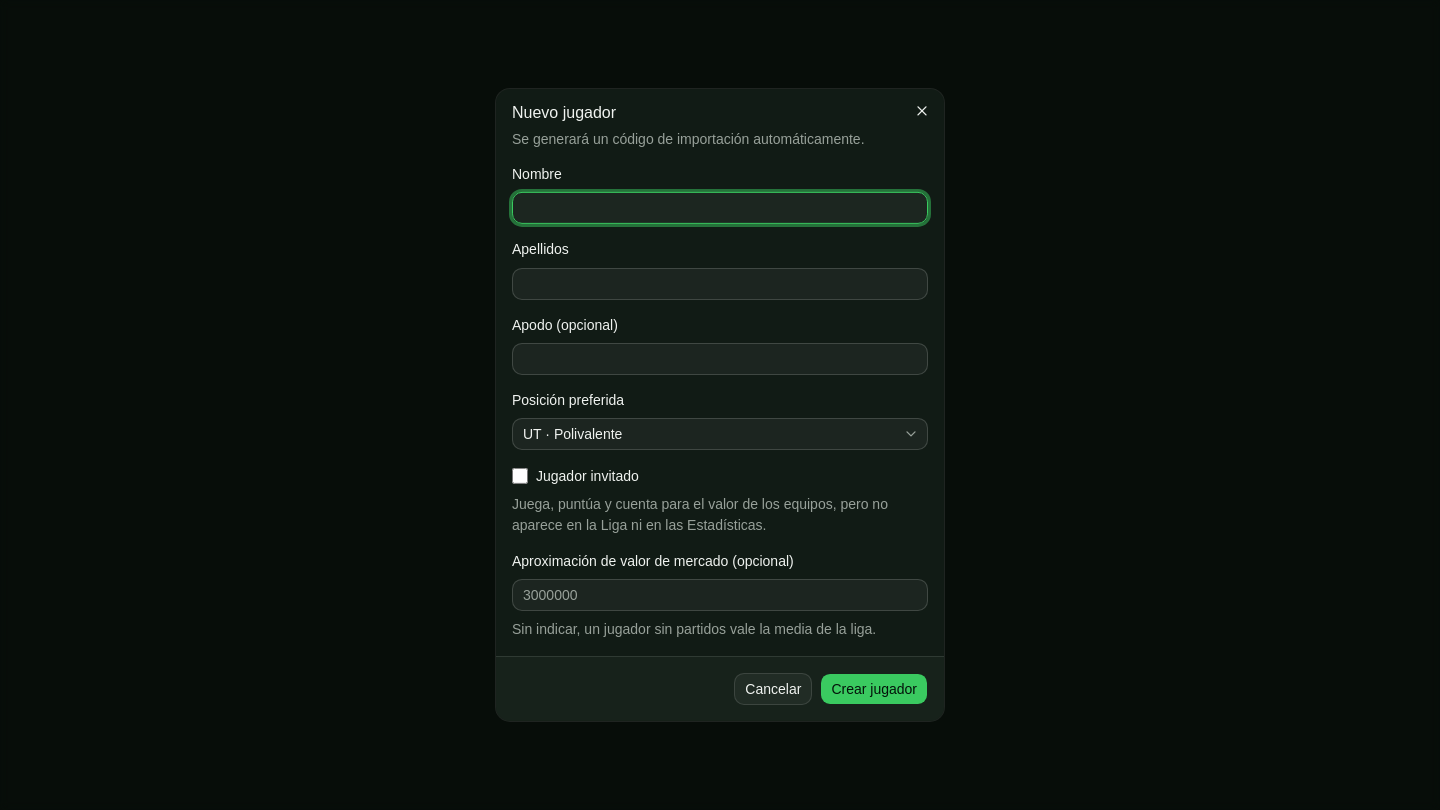
Test: PlayerFormDialog › the administrator-only fields › refuses a negative estimate
This screenshot has width=1440, height=810.
Type "Deuda" into the field labelled "Nombre" at (720, 208), box [512,192,928,224]
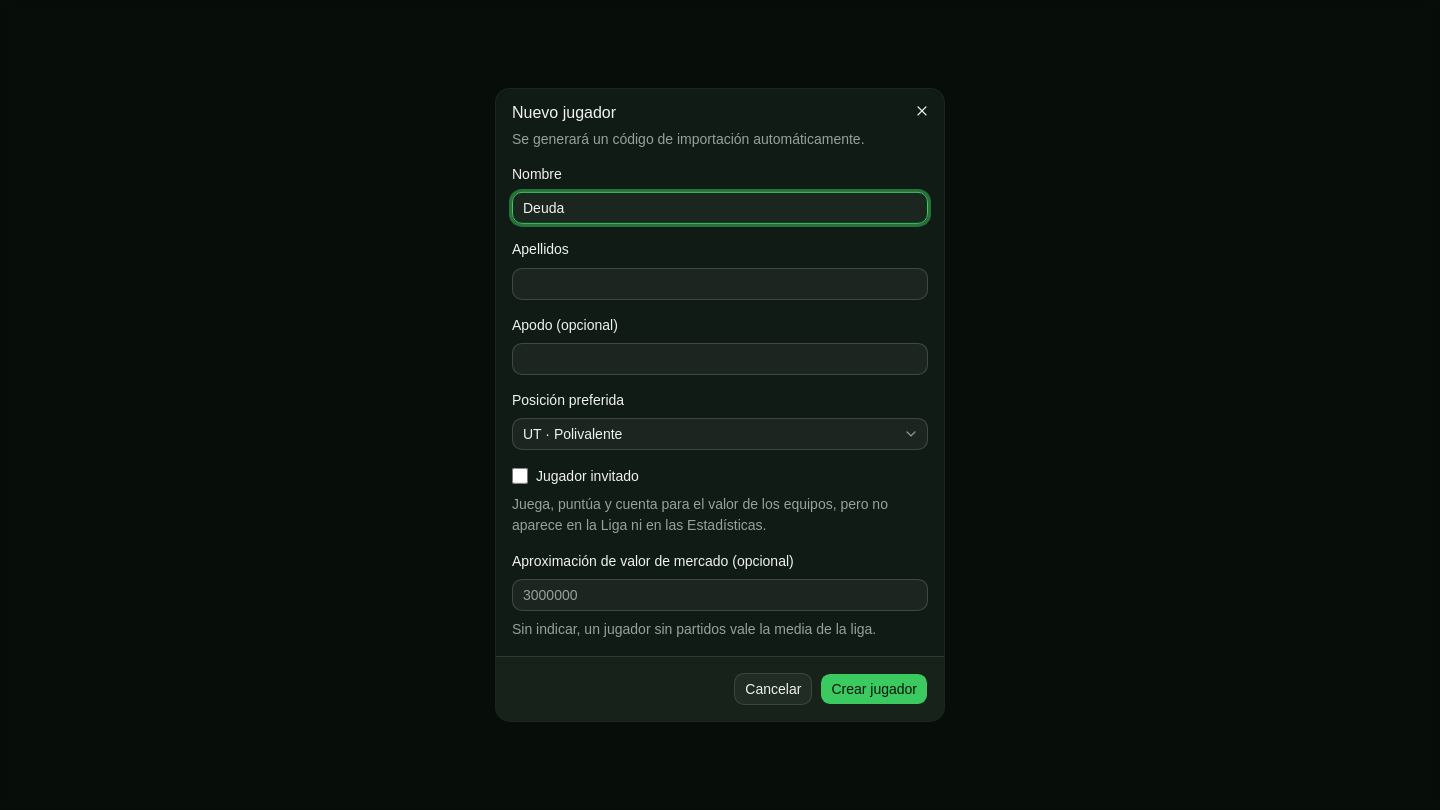
Type "Viviente" into the field labelled "Apellidos" at (720, 283), box [512,267,928,299]
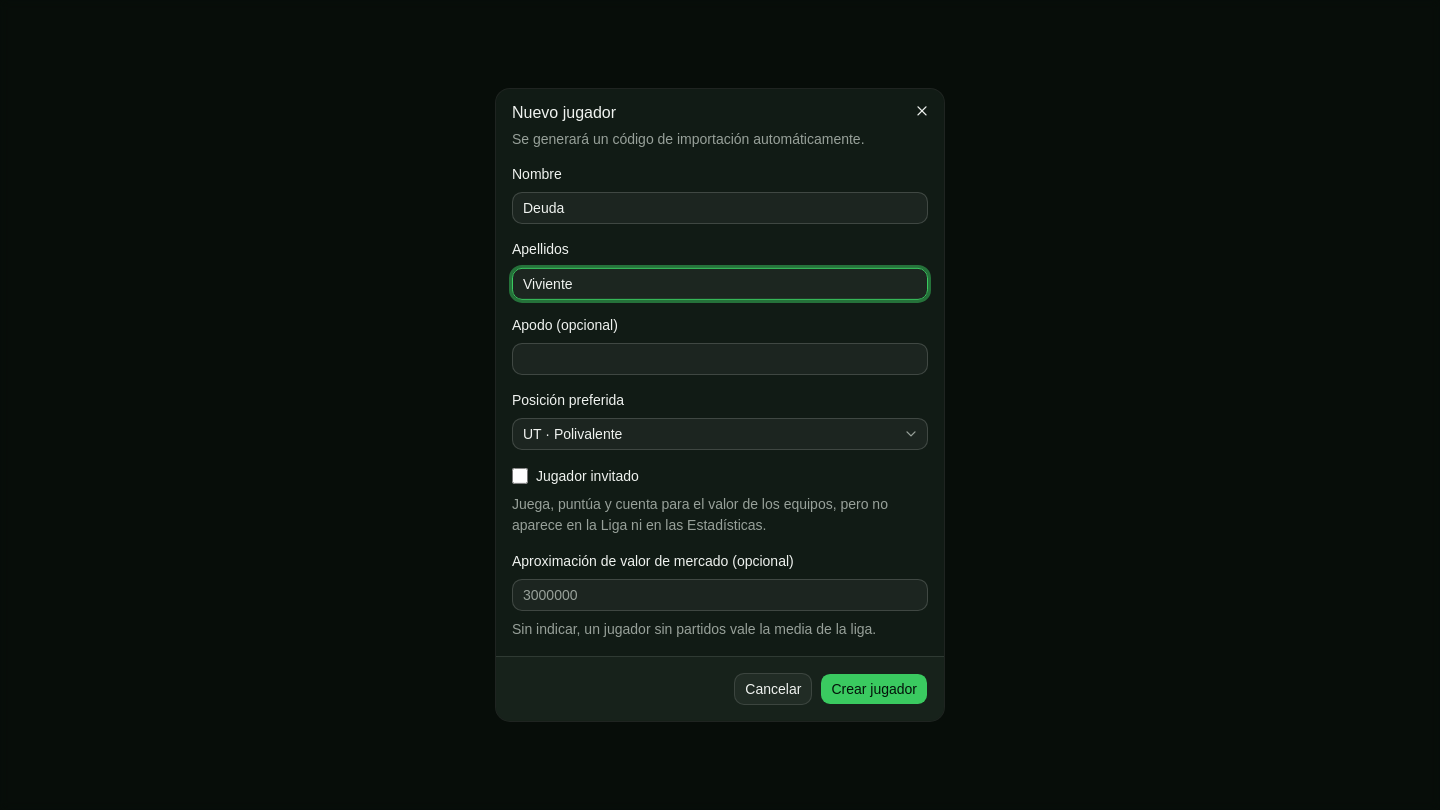
Type "-100" into the field labelled "Aproximación de valor de mercado (opcional)" at (720, 595), box [512,579,928,611]
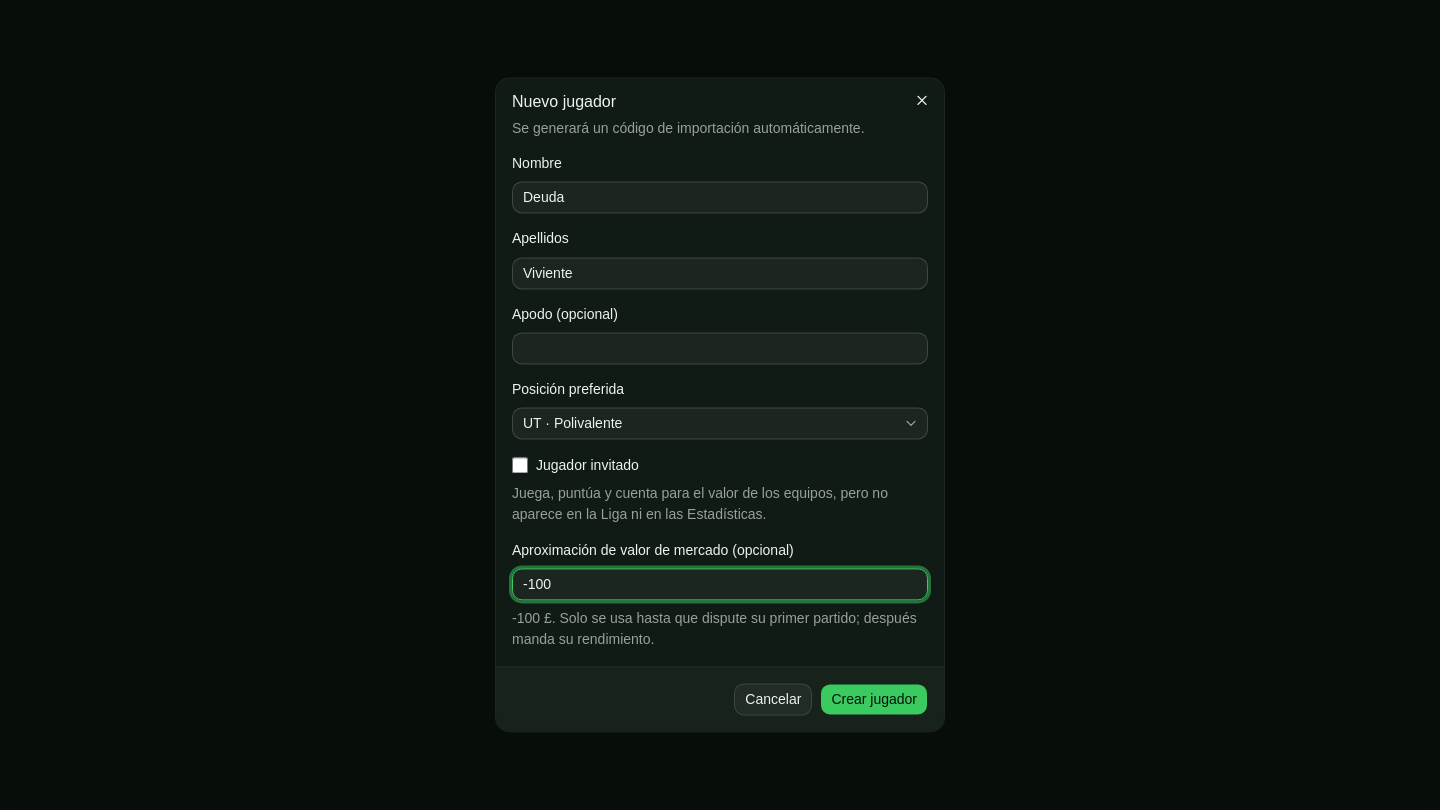
Click the button "Crear jugador" at (874, 700), box [820,684,928,716]
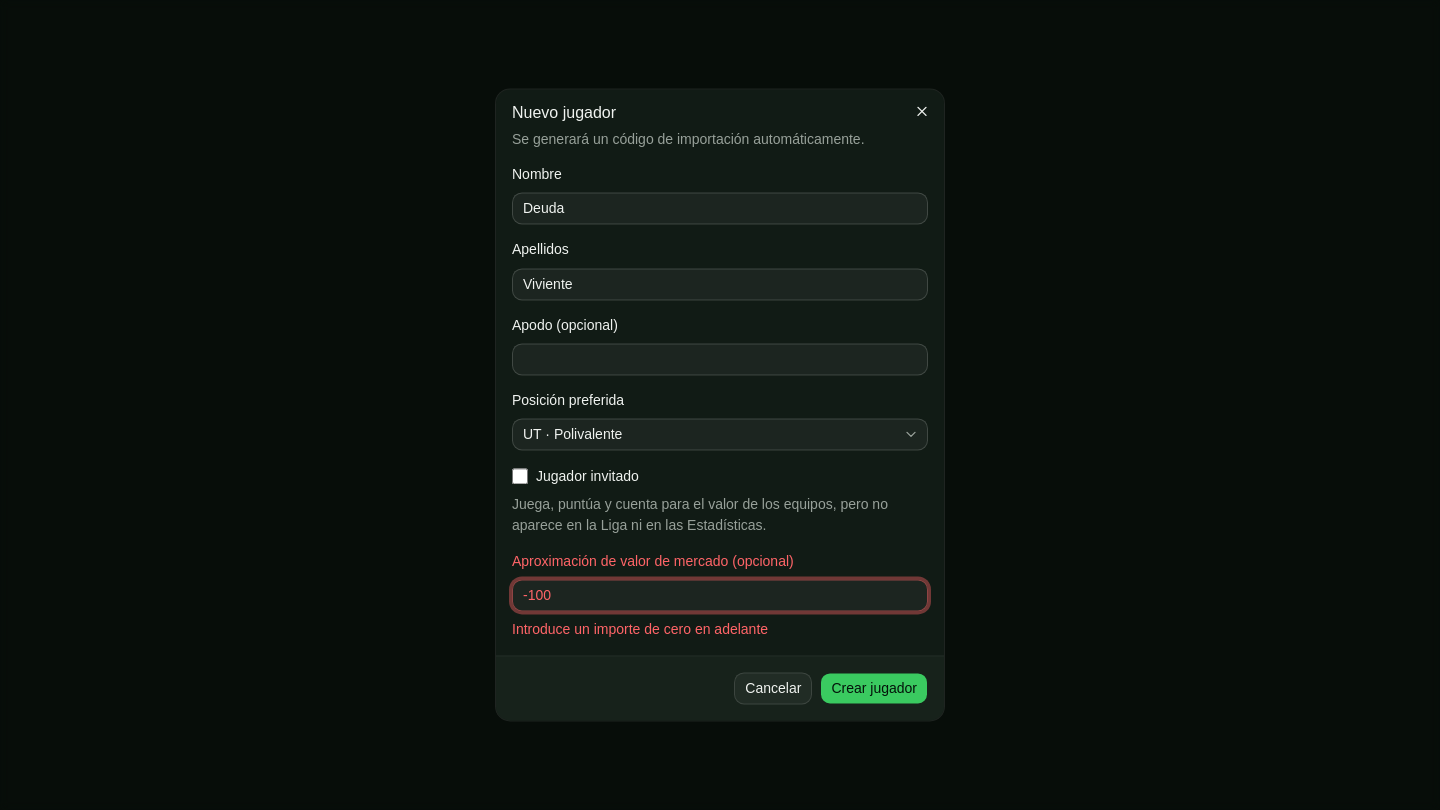
Check: the text "Introduce un importe de cero en adelante" is shown, box [512,622,768,638]
